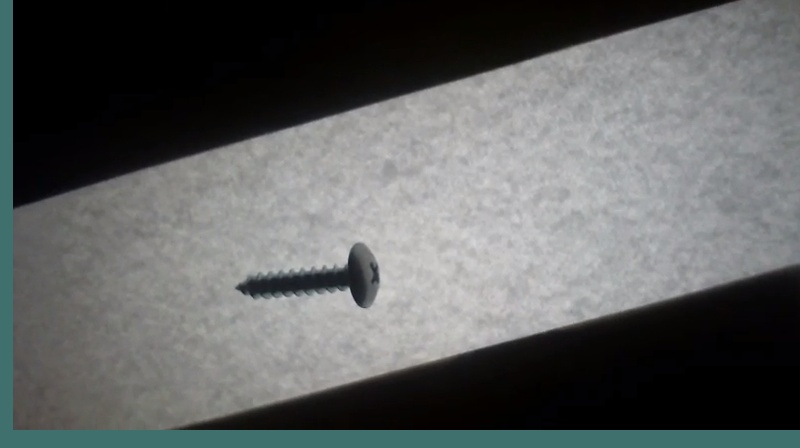S003: (229, 239, 382, 309)
